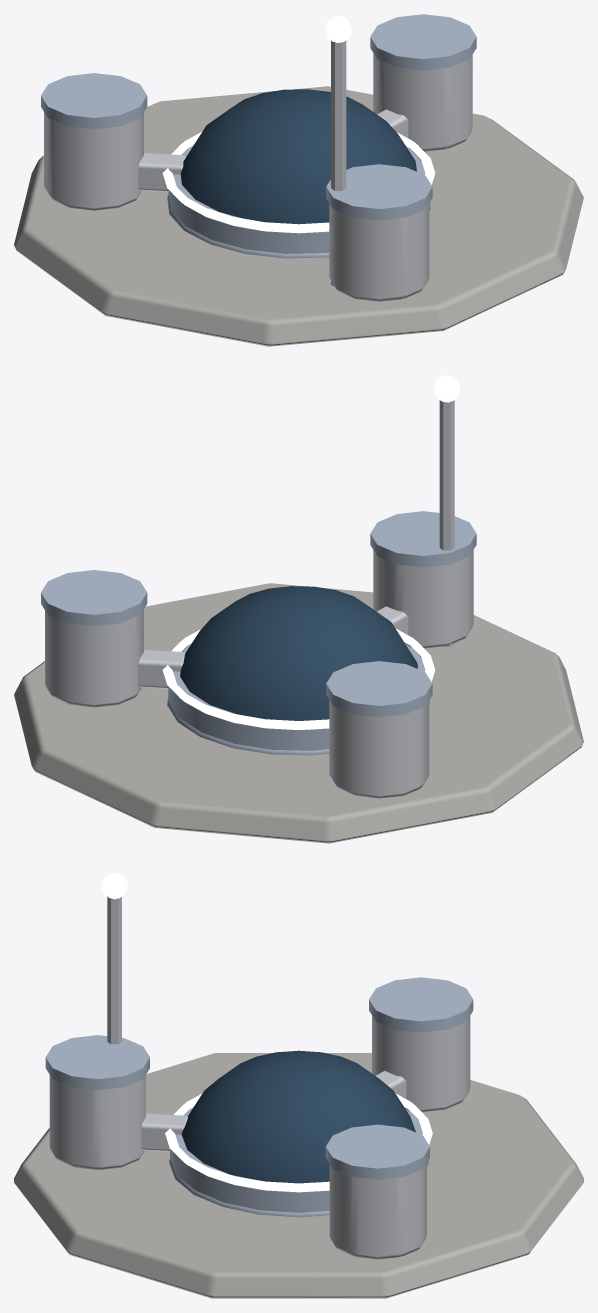
Rendered from colonybase.glb.
The picture shows the model from 3 angles, top to bottom: view 1: azimuth 30°, elevation 25°; view 2: azimuth 150°, elevation 25°; view 3: azimuth 270°, elevation 25°; orthographic projection.
Parts seen in each view (by area): view 1: colonybase; view 2: colonybase; view 3: colonybase.
Boxes of the visible parts, x1,y1,x2,y2 form: colonybase: (14, 14, 583, 346); colonybase: (14, 375, 583, 843); colonybase: (14, 872, 583, 1298).
Size of the model in its own units: 0.8875 by 0.652 by 0.9281.
